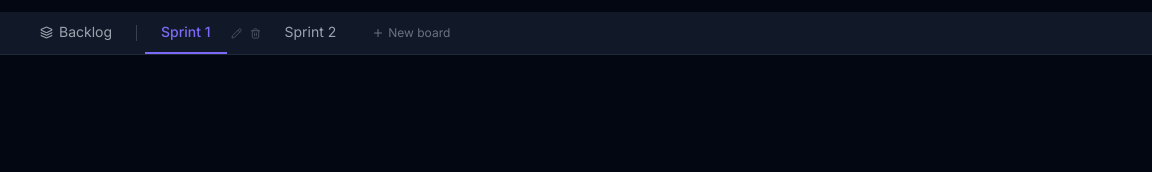
HW-37 — board management controls render only for admins › [REQ-169-6] a rejected rename surfaces the server detail
The image size is (1152, 172).
Click the button named "Rename board b-1": (236, 33) x1=227 y1=24 x2=246 y2=42
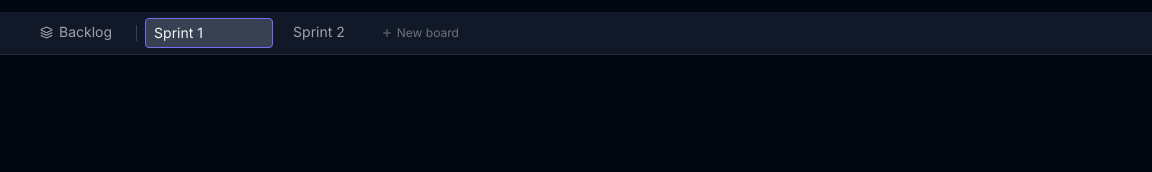
Replace the text in the field showing "Sprint 1" with "Nope": (209, 33) x1=145 y1=18 x2=273 y2=48
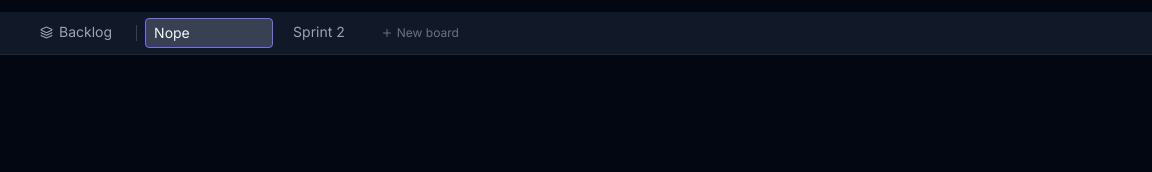
Press Enter in the field showing "Sprint 1", box x1=145 y1=18 x2=273 y2=48
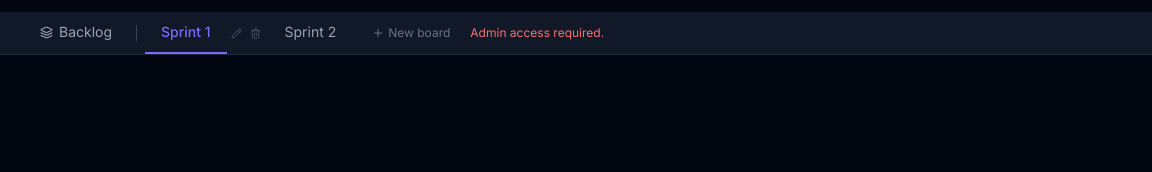
Now the text "Admin access required." is shown, box x1=462 y1=25 x2=612 y2=41
